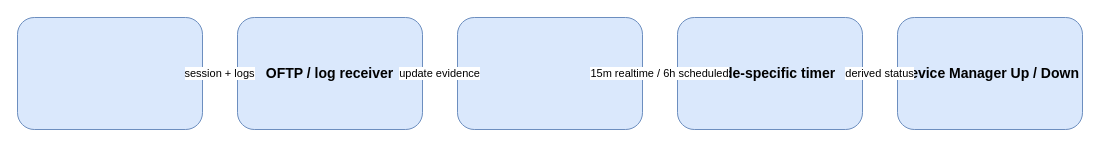
This 1100x147 diagram has some shape labels left out. The shapes that lost their labels are listed below. From the top down, each one's centre as x and y in pixels, then its label:
At [109,73]: "FortiGate log source".
At [549,73]: "Last Log Time + rate counters".
